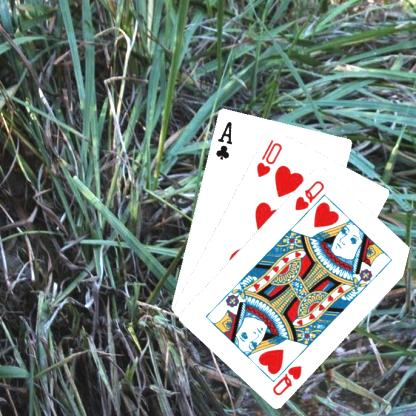10H: (253, 136, 284, 179)
AC: (212, 118, 233, 161)
QH: (268, 352, 304, 397), (292, 177, 326, 212)
